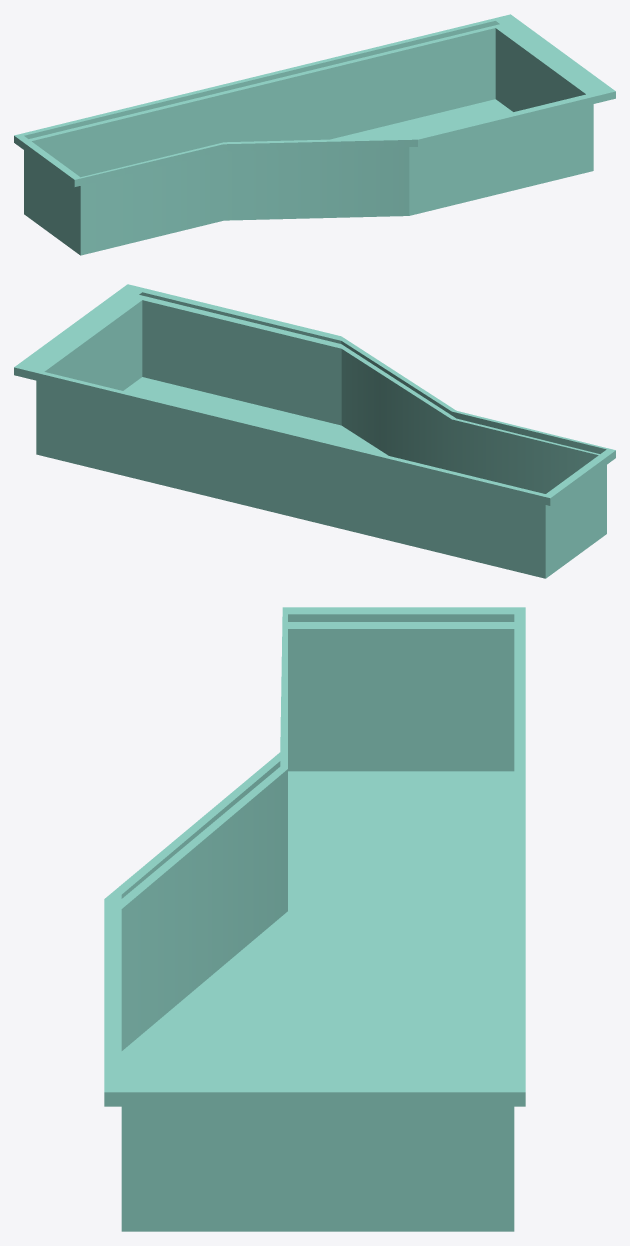
The model's file is world_02.fbx.
3 views of the same model, one above another, from view 1: azimuth 30°, elevation 25°; view 2: azimuth 150°, elevation 25°; view 3: azimuth 270°, elevation 25° (orthographic). The views are drawn at different scales.
Parts seen in each view (by area): view 1: Box002; view 2: Box002; view 3: Box002.
Part boxes in pixels (x1,y1,x2,y2): Box002: [14, 14, 615, 255]; Box002: [14, 284, 615, 578]; Box002: [104, 607, 525, 1231].
Bounding box in the file's own units: 9034 × 1362 × 3317.
